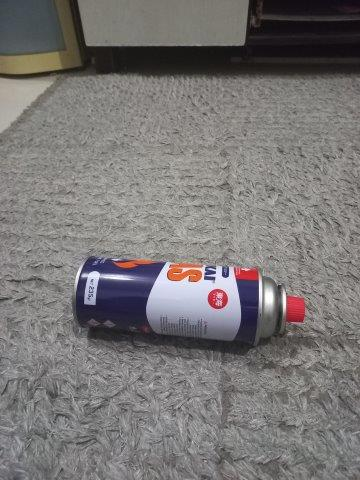kaleng: (70, 256, 306, 348)
